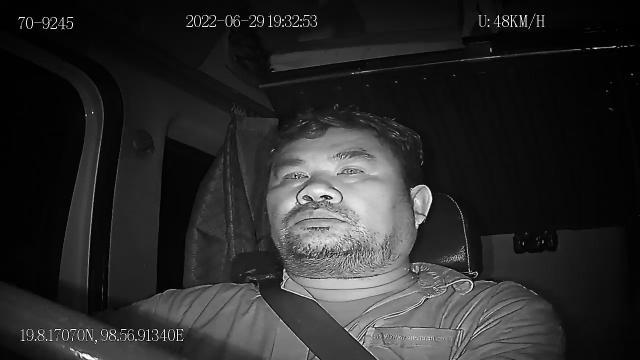SafeDriving: (270, 162, 313, 192), (332, 155, 373, 181)
Seatbelt: (256, 274, 380, 360)
